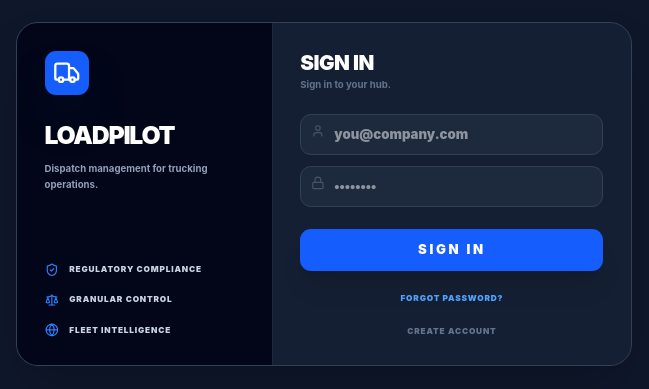
Auth component › Email validation › shows validation error for invalid email on blur
Step 1. Type "not-an-email" into the field with placeholder "you@company.com" → (452, 135), box [300,114,604,155]
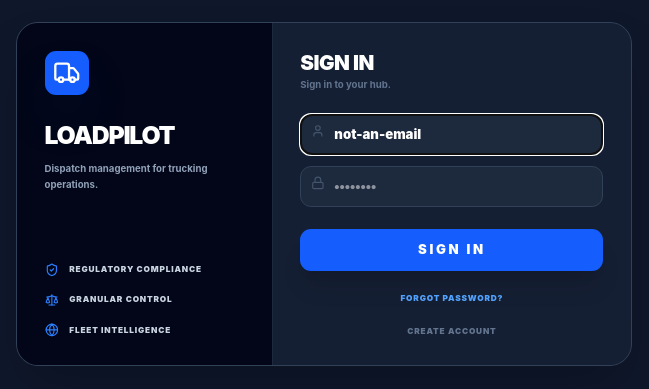
Step 2. Press Tab
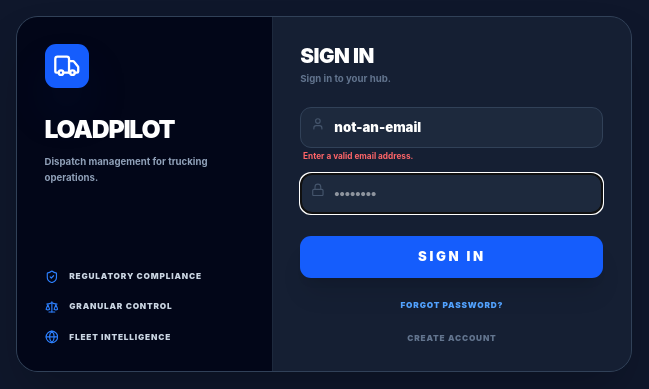
Result: the text "Enter a valid email address." is shown at [303,151,413,161]
